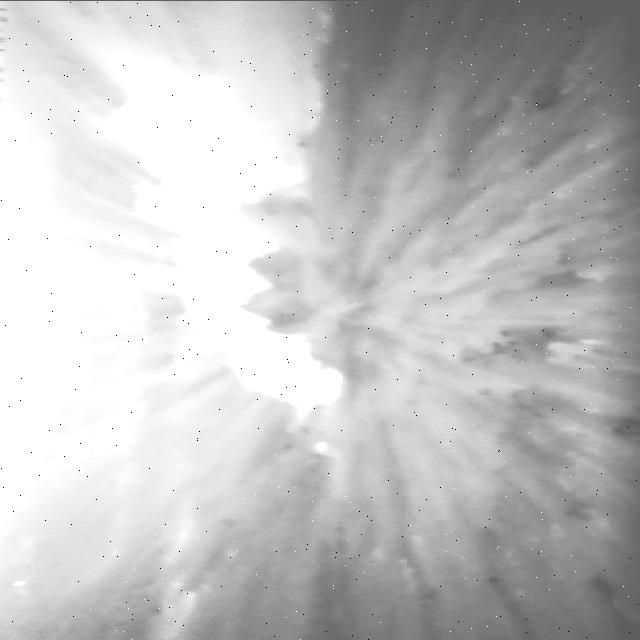asap: (90, 1, 387, 412)
